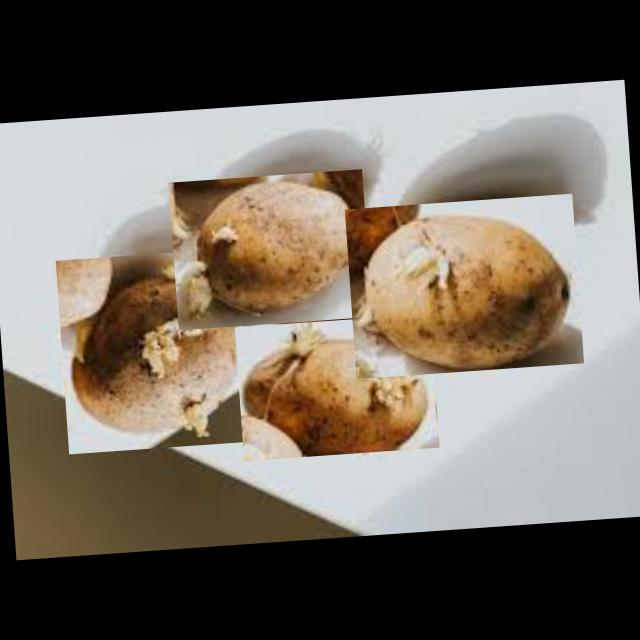Sprouted potato: (344, 194, 584, 378), (55, 247, 250, 453), (168, 169, 372, 330), (234, 314, 439, 461)
